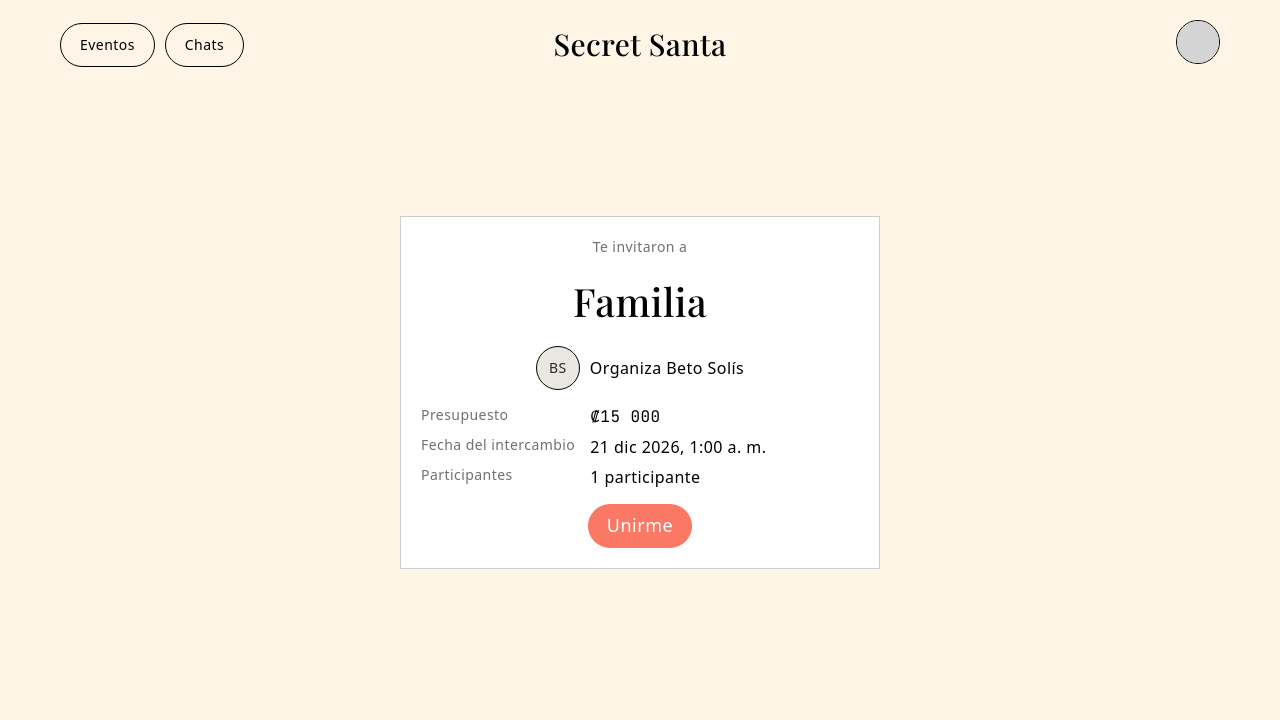
Test: JoinPage › shows a toast when joining fails for another reason
Click the button "Unirme": (640, 526) [588, 504, 692, 548]
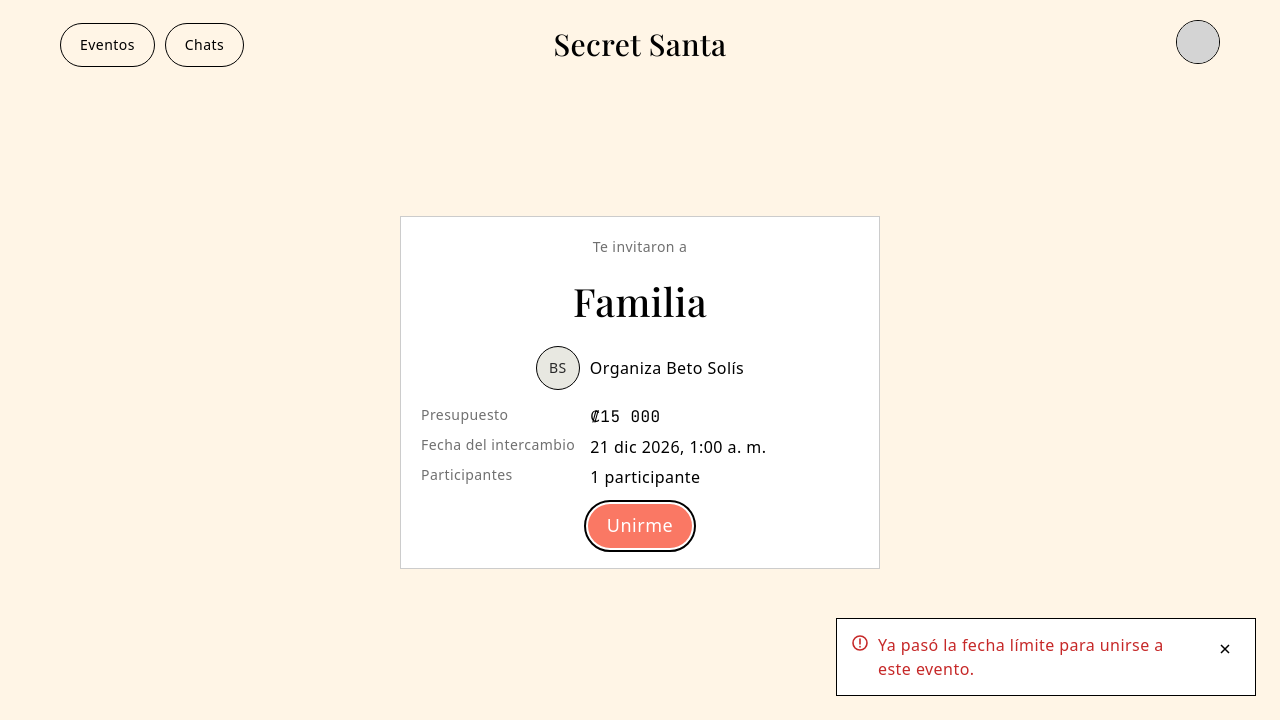
expect the text "Ya pasó la fecha límite para unirse a este evento." is shown: met, box [878, 633, 1193, 681]
